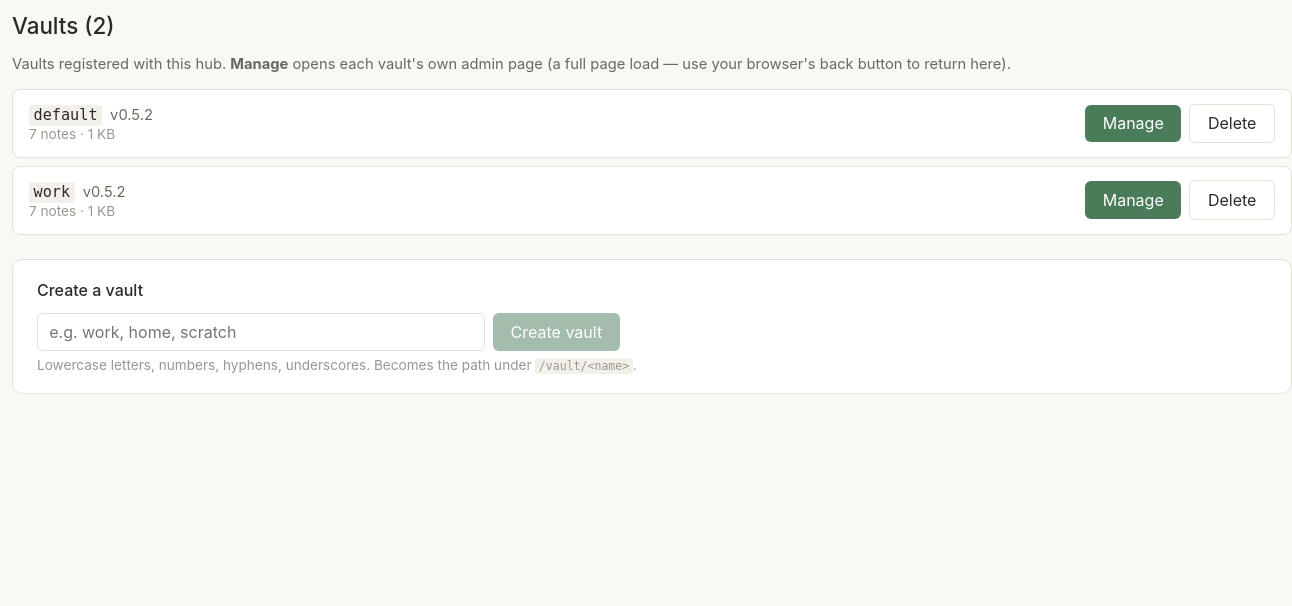
Test: MultiVaultHome — create › token banner renders the server's token_guidance when present (vault#663)
Type "scratch" into the field named "New vault name".
click(261, 332); type("scratch")  # box [37,313,485,351]
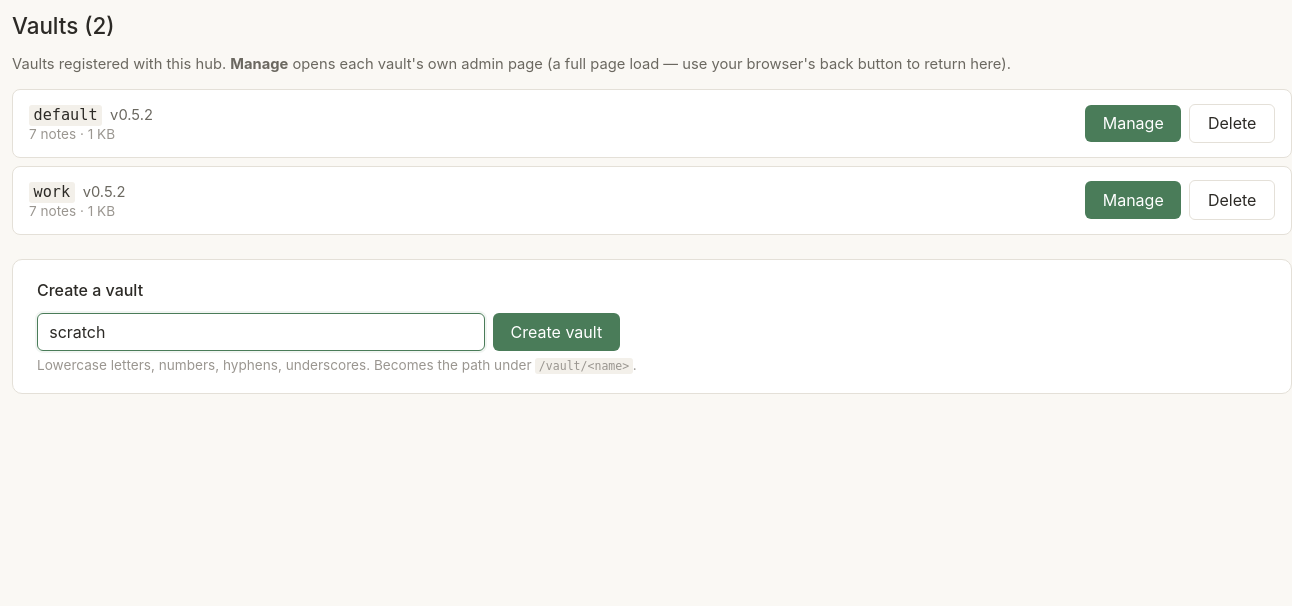
Click the button "Create vault".
click(556, 332)  # box [493,313,620,351]
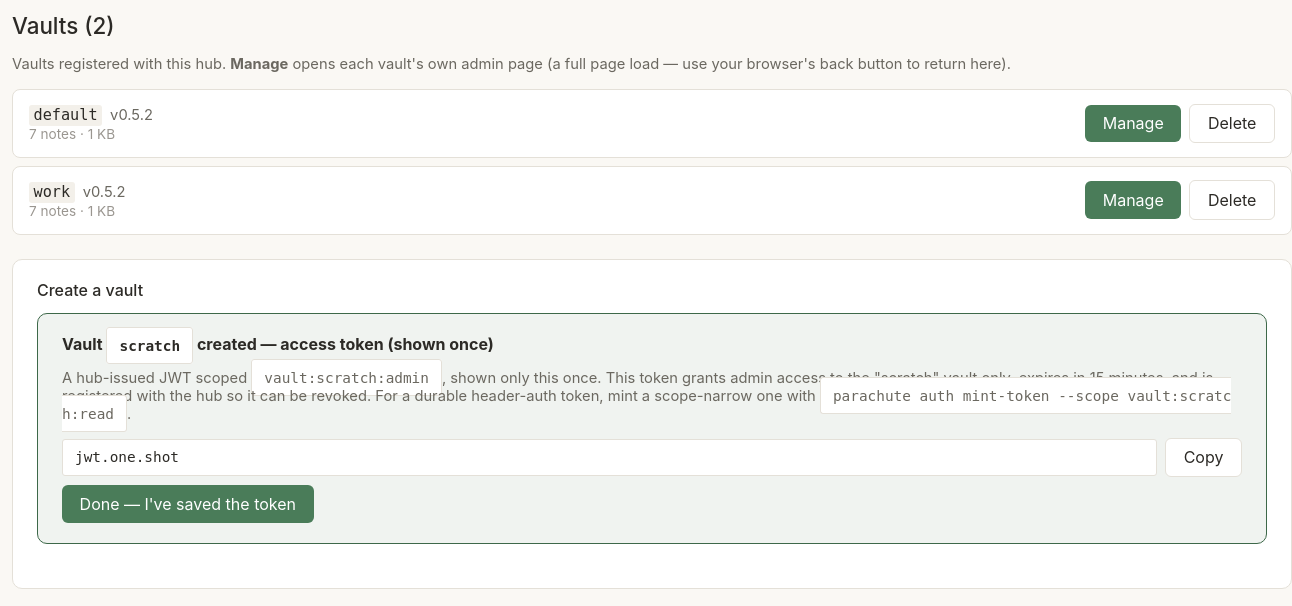
expect the text "expires in 15 minutes" is shown: met, box [62,369,1213,405]
expect the text "jwt.one.shot" is shown: met, box [62,439,1157,476]
